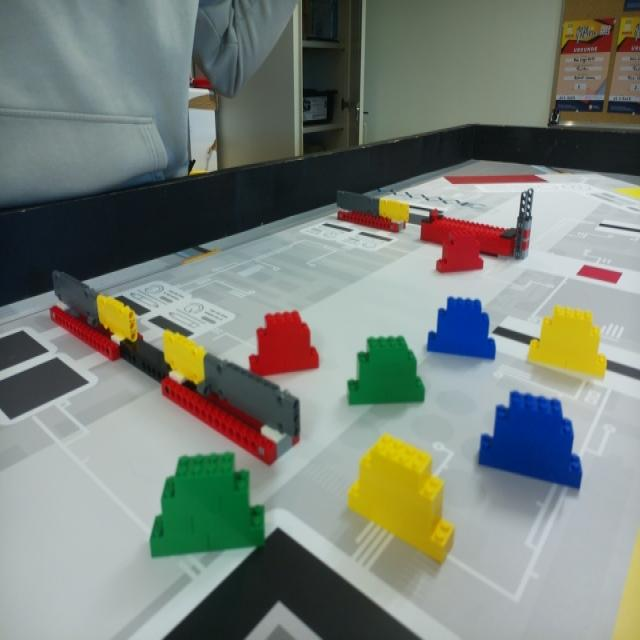blau: (478, 391, 582, 491), (427, 299, 496, 360)
gruen: (151, 450, 263, 562), (347, 335, 426, 406)
rot: (251, 310, 319, 378), (434, 232, 483, 276)
yellow: (348, 431, 454, 560), (527, 305, 607, 378)
